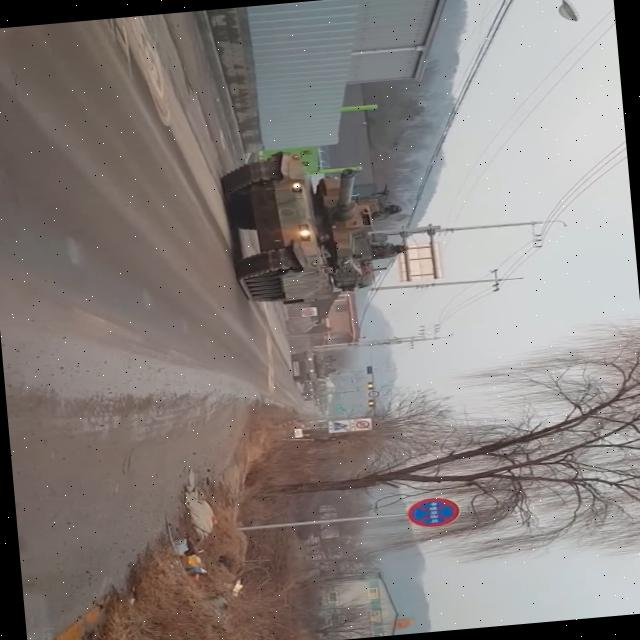korea tank: (212, 137, 413, 310)
